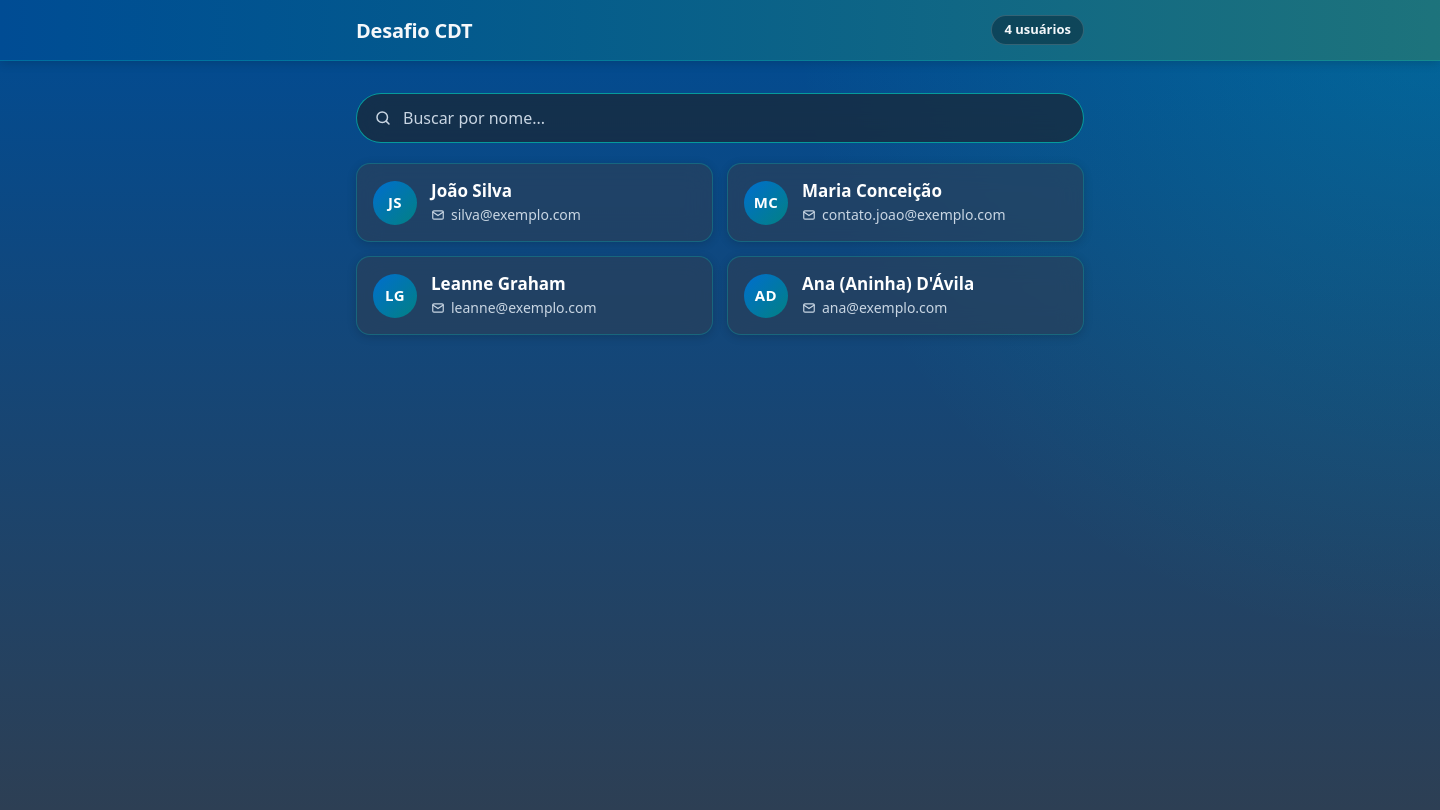
Test: App › busca › não busca pelo e-mail
expect the list is shown: met, box [356,163,1084,335]
Type "exemplo.com" into the search field labelled "Buscar por nome". click: [720, 118]
box: [356,93,1084,143]
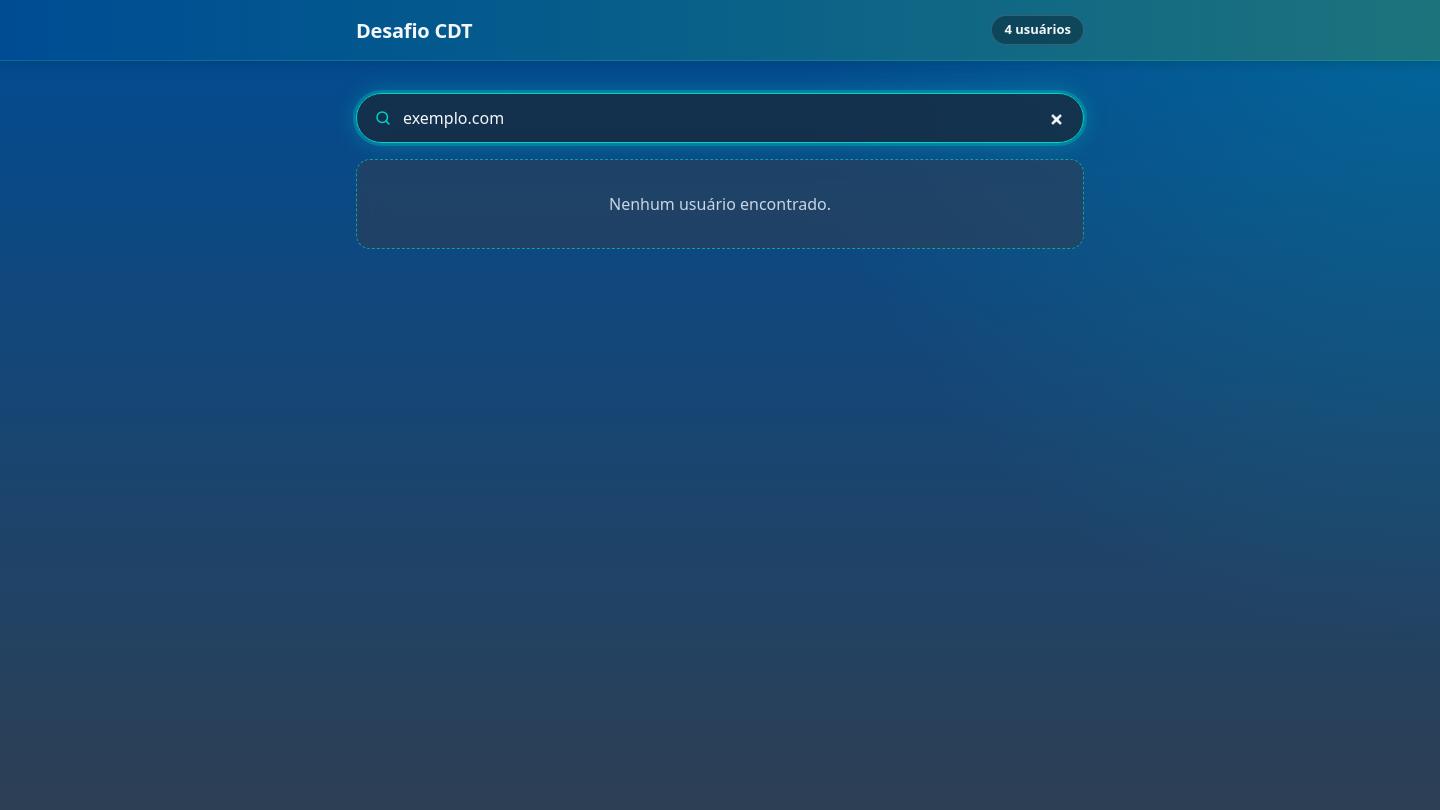
expect the list item "JS João Silva silva@exemplo.com" is gone: met
expect the text "Nenhum usuário encontrado." is shown: met, box [356,159,1084,249]
